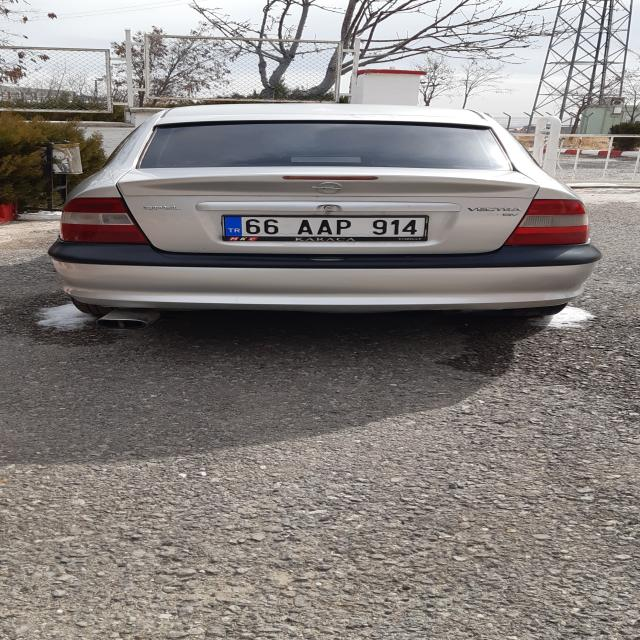plate: (222, 215, 426, 238)
